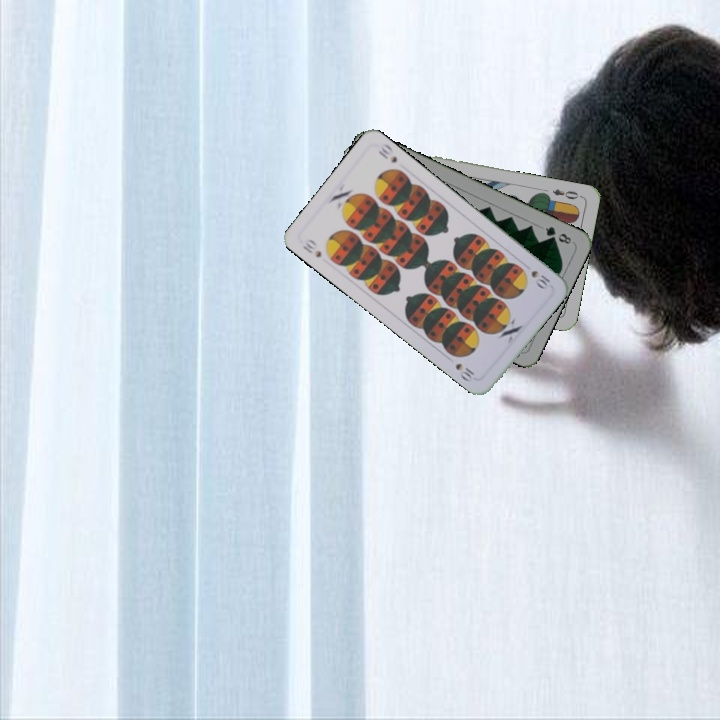EO: (548, 185, 584, 202)
G8: (541, 222, 574, 247)
S10: (527, 266, 554, 292), (298, 235, 324, 260)
